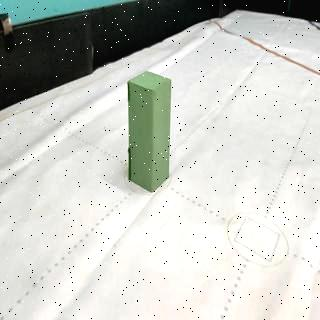greenbox: (128, 72, 174, 192)
